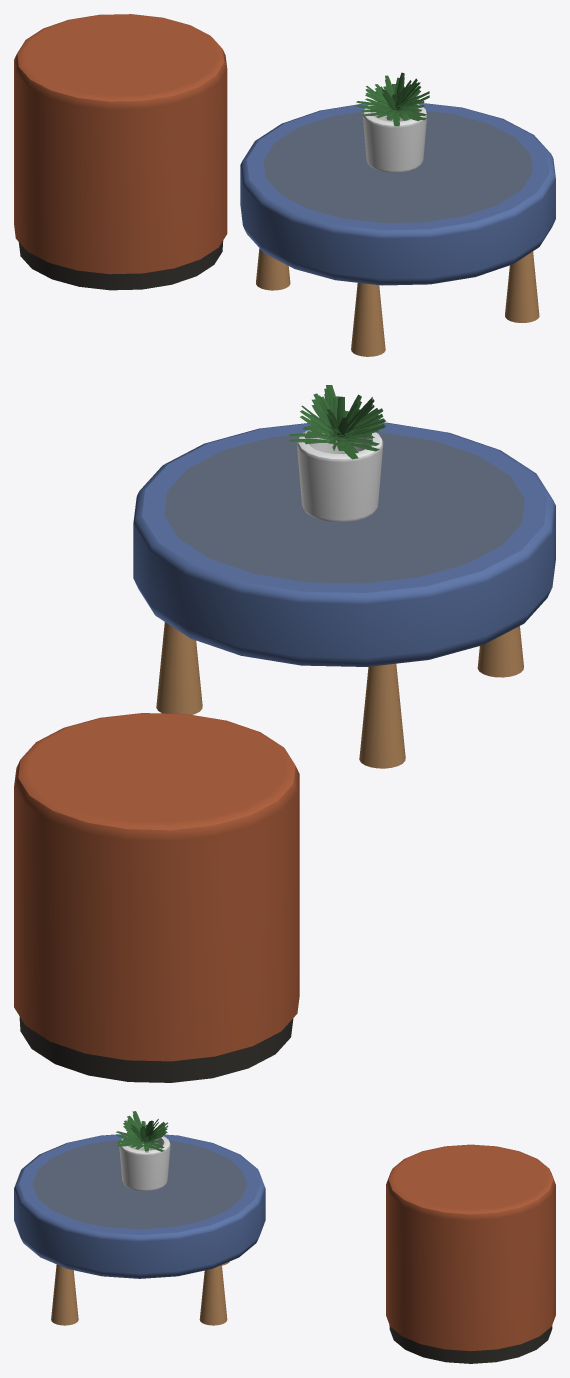
File: masa_sandalye.fbx
3 renders of one model, top to bottom at view 1: azimuth 30°, elevation 25°; view 2: azimuth 150°, elevation 25°; view 3: azimuth 270°, elevation 25°, orthographic. The views are drawn at different scales.
Parts seen in each view (by area): view 1: koltuk, masa, bitki; view 2: koltuk, masa, bitki; view 3: koltuk, masa, bitki.
Part boxes in pixels (x1,y1,x2,y2): koltuk: (14, 14, 227, 290); masa: (240, 103, 555, 356); bitki: (356, 72, 429, 172); koltuk: (14, 713, 299, 1082); masa: (133, 422, 555, 768); bitki: (289, 385, 386, 522); koltuk: (386, 1144, 555, 1363); masa: (14, 1134, 265, 1325); bitki: (116, 1111, 170, 1190).
Bounding box in the file's own units: 3.22 × 3.11 × 6.37.
